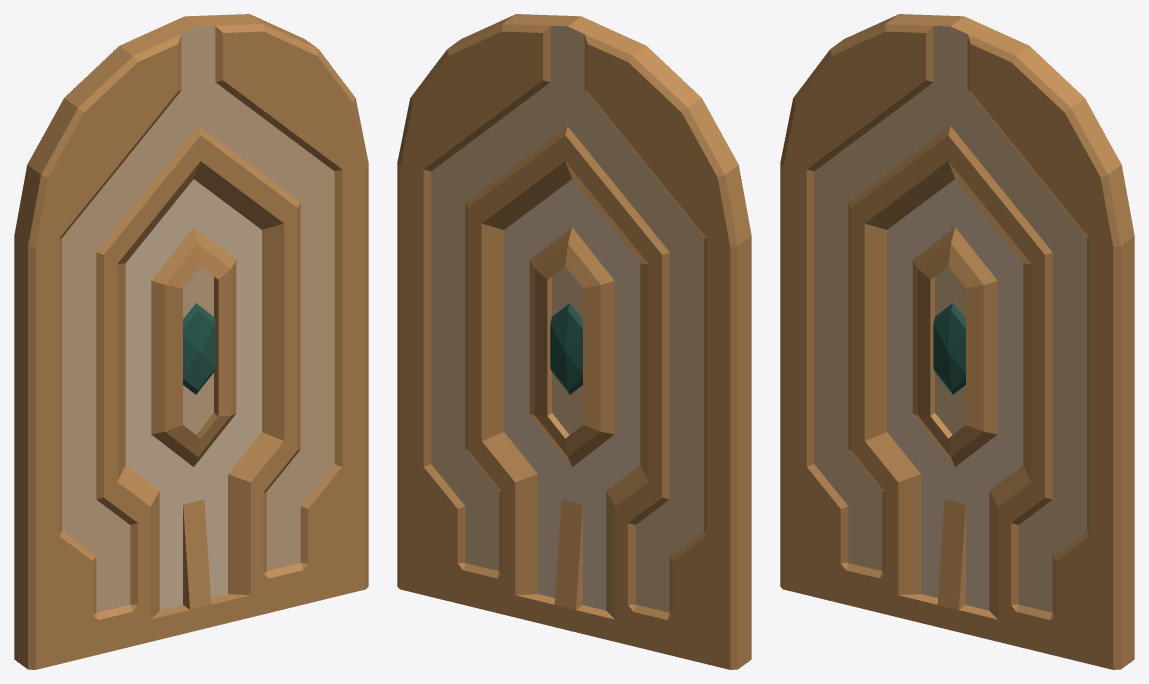
File: Door_large.glb
3 renders of one model, left to right at view 1: azimuth 30°, elevation 25°; view 2: azimuth 150°, elevation 25°; view 3: azimuth 330°, elevation 25°, orthographic.
Parts seen in each view (by area): view 1: Wall_Straight_Door_Large; view 2: Wall_Straight_Door_Large; view 3: Wall_Straight_Door_Large.
Part boxes in pixels (x1=…): Wall_Straight_Door_Large: x1=14, y1=14, x2=368, y2=669; Wall_Straight_Door_Large: x1=397, y1=14, x2=751, y2=669; Wall_Straight_Door_Large: x1=780, y1=14, x2=1134, y2=669.
Size of the model in its own units: 1.6 by 2.7 by 0.15.
